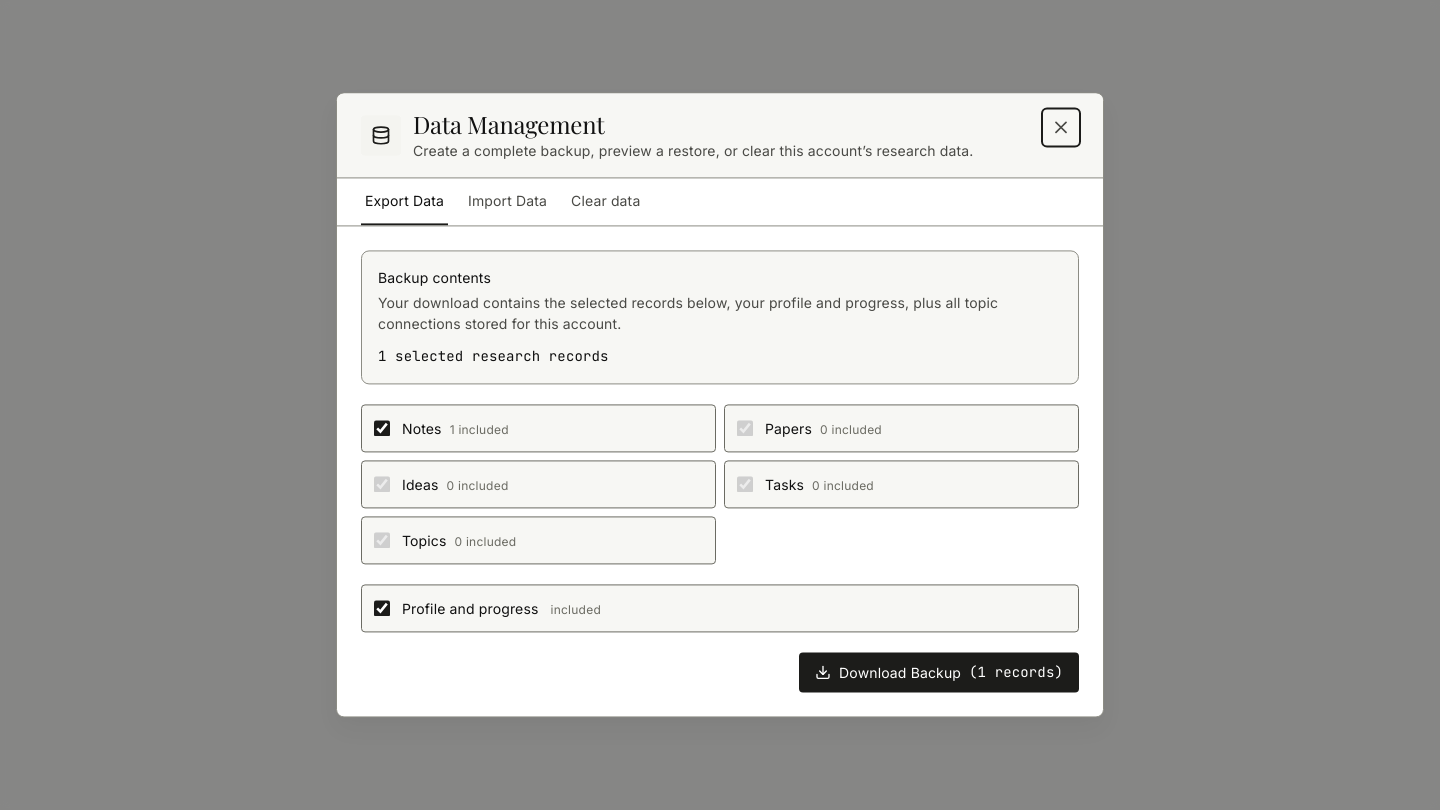
Test case: DataManagementDialog › requires an explicit confirmation before clearing research data
Click the tab "Clear data".
click(606, 208)  # box [567,191,644,226]
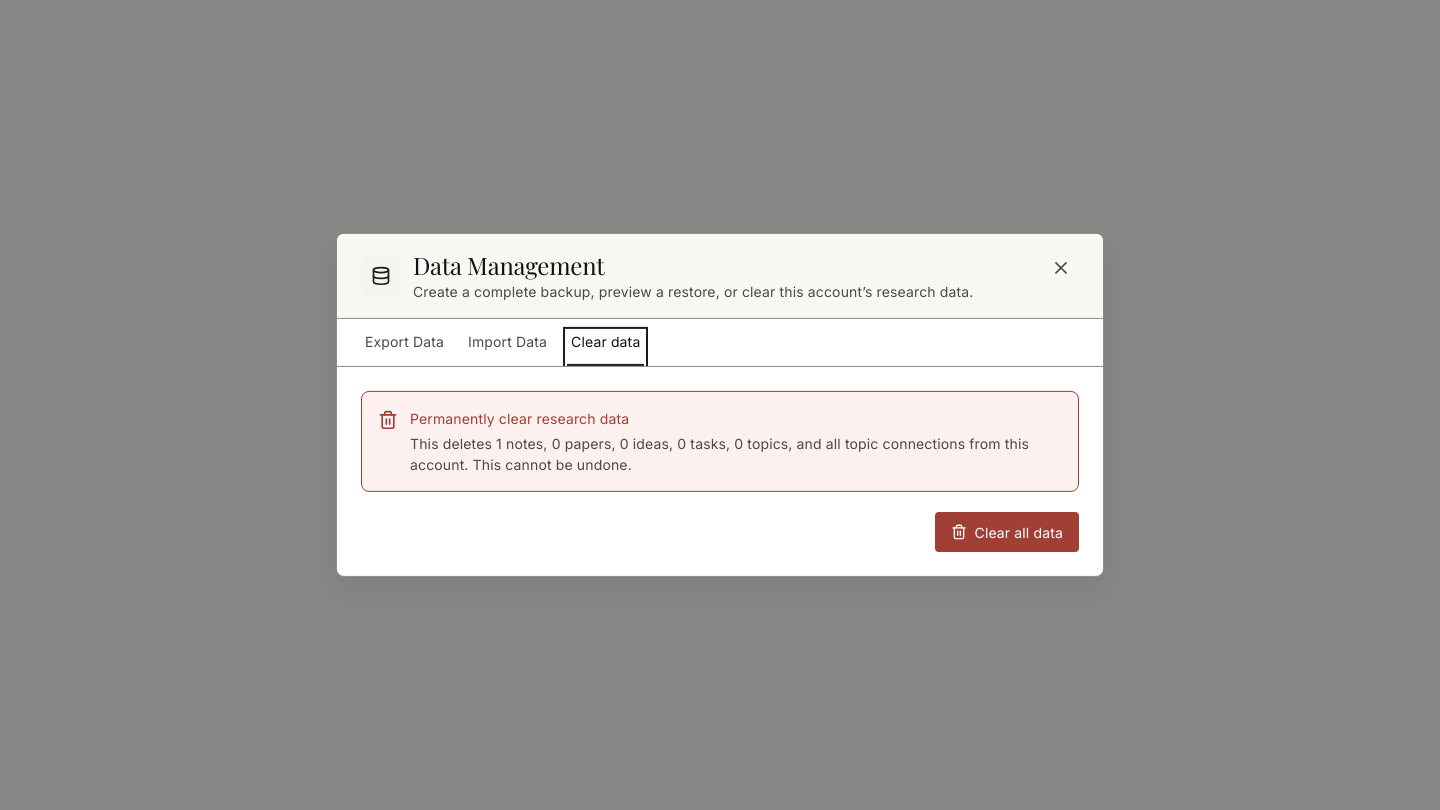
Click the button "Clear all data".
click(1007, 532)  # box [934,512,1079,552]
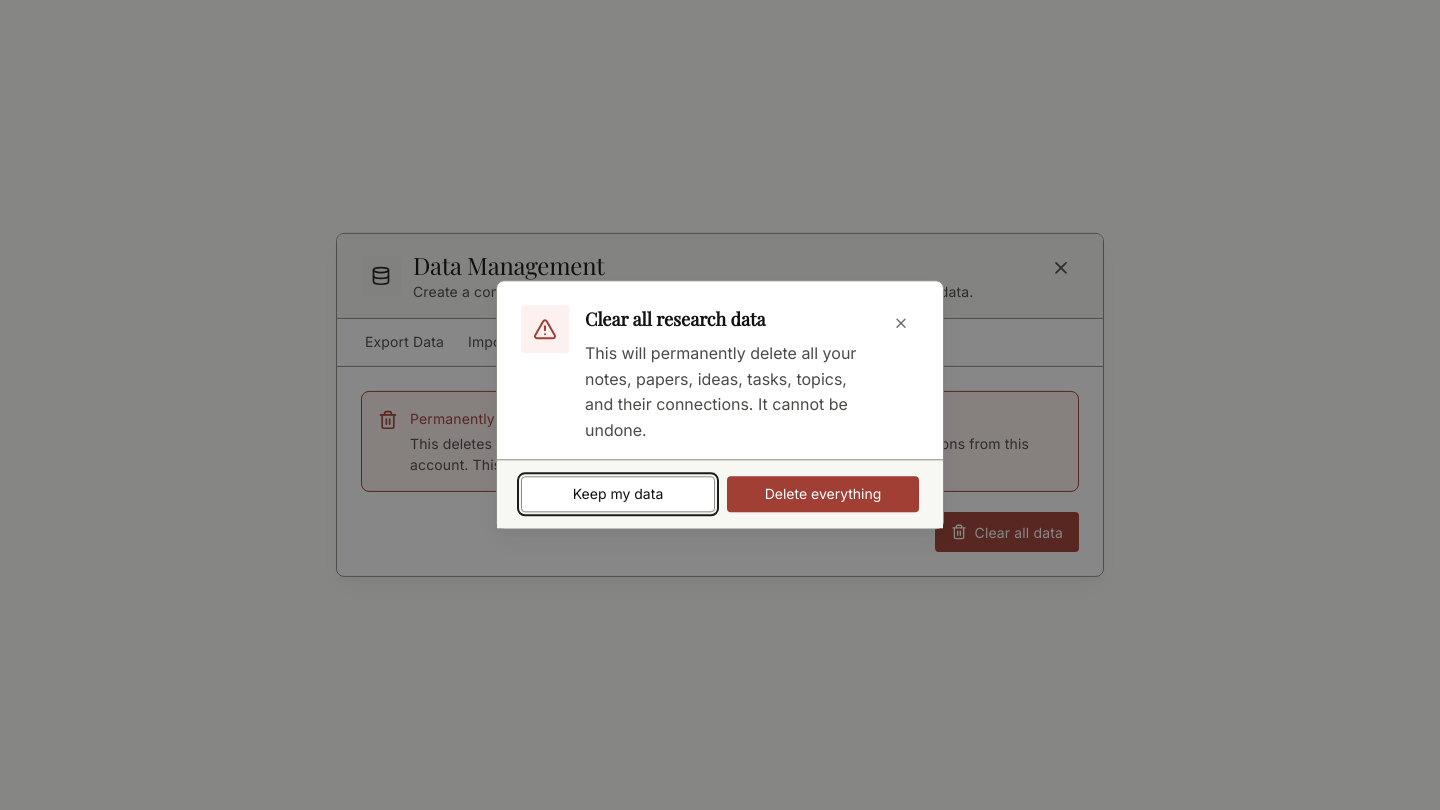
Result: the dialog "Clear all research data" is shown at [496,280,944,530]
Result: the text "notes, papers, ideas, tasks, topics, and their connections" is shown at [585,343,856,440]
